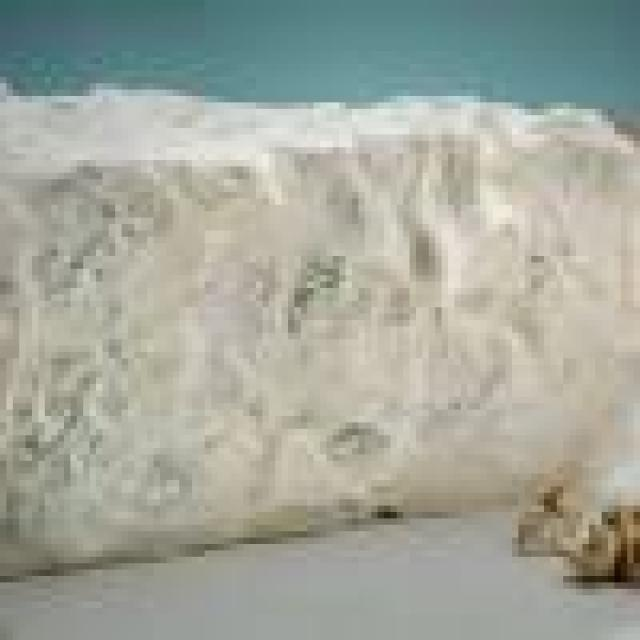Cheese: (0, 58, 640, 538)
